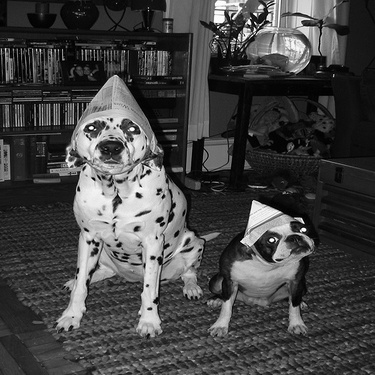dog: (39, 74, 210, 348), (178, 204, 329, 344)
